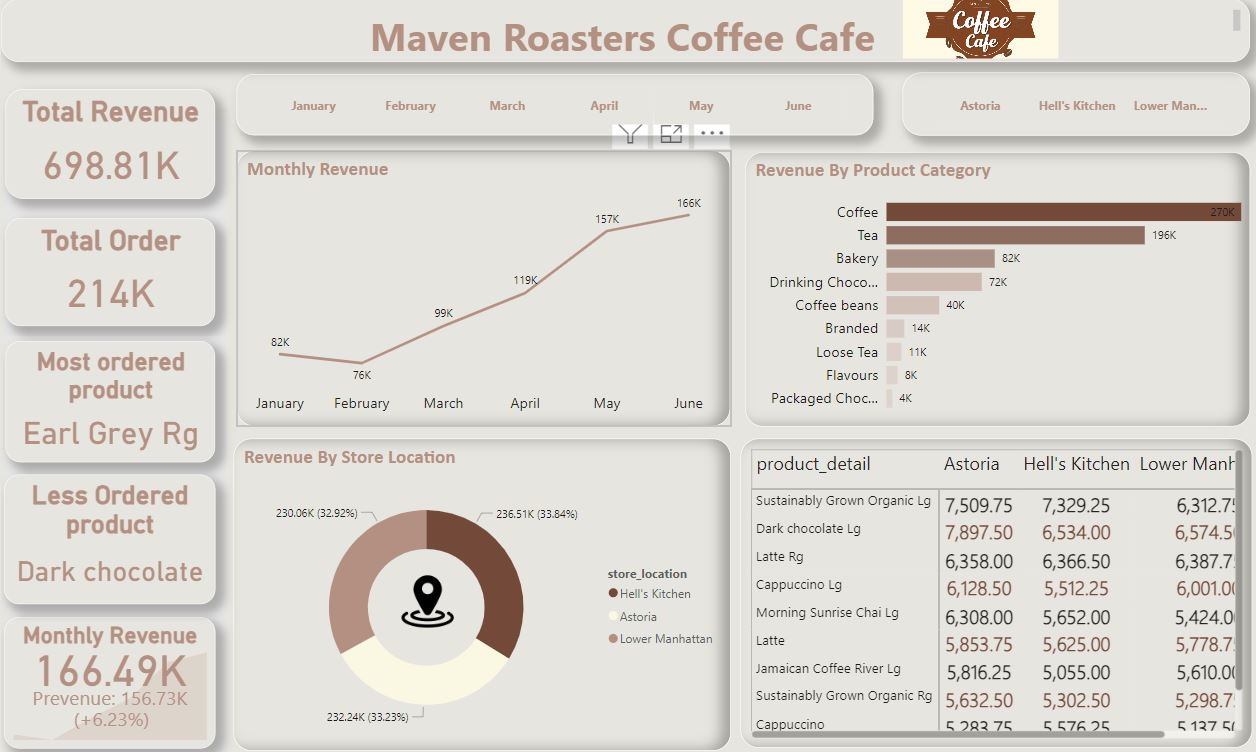

Layout of this report page (visuals, bound fields, positions):
{"tool":"powerbi","page":{"name":"Page 1","canvas":[1400,850],"ordinal":0},"visuals":[{"type":"card","title":"Total Revenue","fields":{"Values":["Sale price.Total revenue"]},"box":[687.7,1052.4,281.3,127.6],"z":0},{"type":"card","title":"Total Order","fields":{"Values":["CountNonNull(Coffee dataset.Quality Order)"]},"box":[599.1,857,229.2,148.5],"z":1000},{"type":"pivotTable","title":"Top 10 Product By Revenue","fields":{"Rows":["Product Id.product_detail"],"Columns":["Store Id.store_location"],"Values":["Sum(Coffee dataset.Sales)"]},"box":[0,856.1,596.5,343.9],"z":2000},{"type":"kpi","title":"Total revenue By Month ","fields":{"Indicator":["Sale price.Total revenue"],"TrendLine":["Calender.Month Name"],"Goal":["Calender.Previous Month Revenue"]},"box":[828.4,857,224,148.5],"z":3000},{"type":"lineChart","title":"Monthly Revenue","fields":{"Category":["Calender.Month Name"],"Y":["Sale price.Total revenue"]},"box":[262,175.3,548,306.3],"z":4000},{"type":"barChart","title":"Revenue By Product Category","fields":{"Y":["Sale price.Total revenue"],"Category":["Product Id.product_category"]},"box":[824.8,177.1,560.9,304.5],"z":5000},{"type":"donutChart","title":"Revenue By Store Location","fields":{"Category":["Store Id.store_location"],"Y":["Sale price.Total revenue"]},"box":[258.3,494.5,551.7,346.9],"z":6000},{"type":"pivotTable","title":"Top 10 Product","fields":{"Rows":["Product Id.product_detail"],"Values":["Sale price.Total revenue"],"Columns":["Store Id.store_location"]},"box":[821.1,494.5,568.3,343.2],"z":7000},{"type":"textbox","box":[0,7.4,1385.7,70.1],"z":8000},{"type":"slicer","fields":{"Values":["Calender.Month Name"]},"box":[262,90.4,706.7,68.3],"z":9000},{"type":"slicer","fields":{"Values":["Store Id.store_location"]},"box":[1000.1,88.6,385.6,70.1],"z":10000},{"type":"image","box":[433.6,640.3,77.5,68.3],"z":11000},{"type":"shape","box":[0,138.4,254.6,712.2],"z":12000},{"type":"kpi","title":"Monthly Revenue","fields":{"TrendLine":["Calender.Month Name"],"Goal":["Calender.Previous Month Revenue"],"Indicator":["Sale price.Total revenue"]},"box":[3.7,691.9,234.3,145.8],"z":13000},{"type":"card","title":"Total Revenue","fields":{"Values":["Sale price.Total revenue"]},"box":[5.5,107,232.5,121.8],"z":14000},{"type":"card","title":"Total Order","fields":{"Values":["Calender.Total quality"]},"box":[5.5,249.1,232.5,119.9],"z":15000},{"type":"card","title":"Most ordered product ","fields":{"Values":["Min(Product Id.product_detail)"]},"box":[5.5,385.6,232.5,134.7],"z":16000},{"type":"card","title":"Less Ordered product","fields":{"Values":["Min(Product Id.product_detail)"]},"box":[3.7,535.1,234.3,143.9],"z":17000},{"type":"image","box":[994.6,0,182.7,77.5],"z":18000}]}

Visuals, with their boxes in screenshot pixels (x1, y1, x2, y2), scaled from the page's 1400x850 canvas onto the 1256x752 screenshot:
"Monthly Revenue" lineChart: (235, 155, 727, 426)
"Revenue By Product Category" barChart: (740, 157, 1243, 426)
"Revenue By Store Location" donutChart: (232, 437, 727, 744)
"Top 10 Product" pivotTable: (737, 437, 1246, 741)
textbox: (0, 7, 1243, 69)
slicer - Calender.Month Name: (235, 80, 869, 140)
slicer - Store Id.store_location: (897, 78, 1243, 140)
image: (389, 566, 459, 627)
shape: (0, 122, 228, 751)
"Monthly Revenue" kpi: (3, 612, 214, 741)
"Total Revenue" card: (5, 95, 214, 202)
"Total Order" card: (5, 220, 214, 326)
"Most ordered product " card: (5, 341, 214, 460)
"Less Ordered product" card: (3, 473, 214, 601)
image: (892, 0, 1056, 69)
